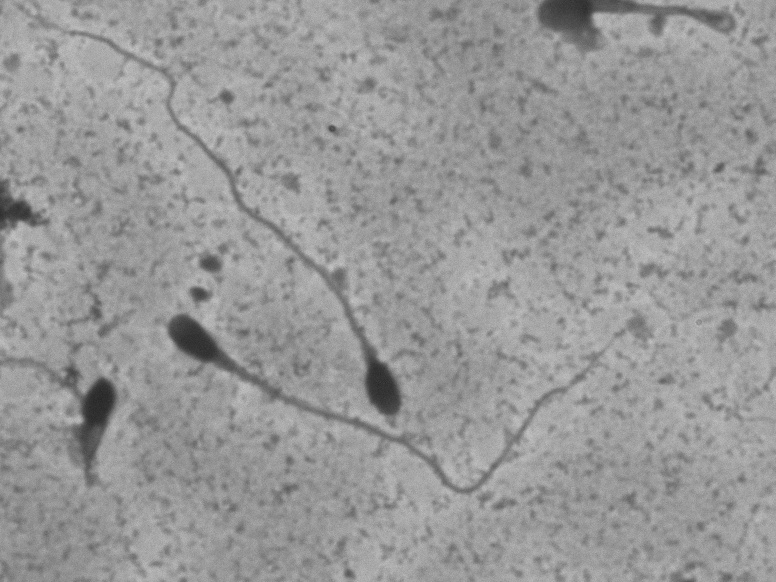Abnormal: (157, 297, 651, 510), (19, 338, 142, 513)
Normal: (19, 8, 416, 424)
